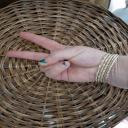PeaceSign: (6, 31, 118, 85)
